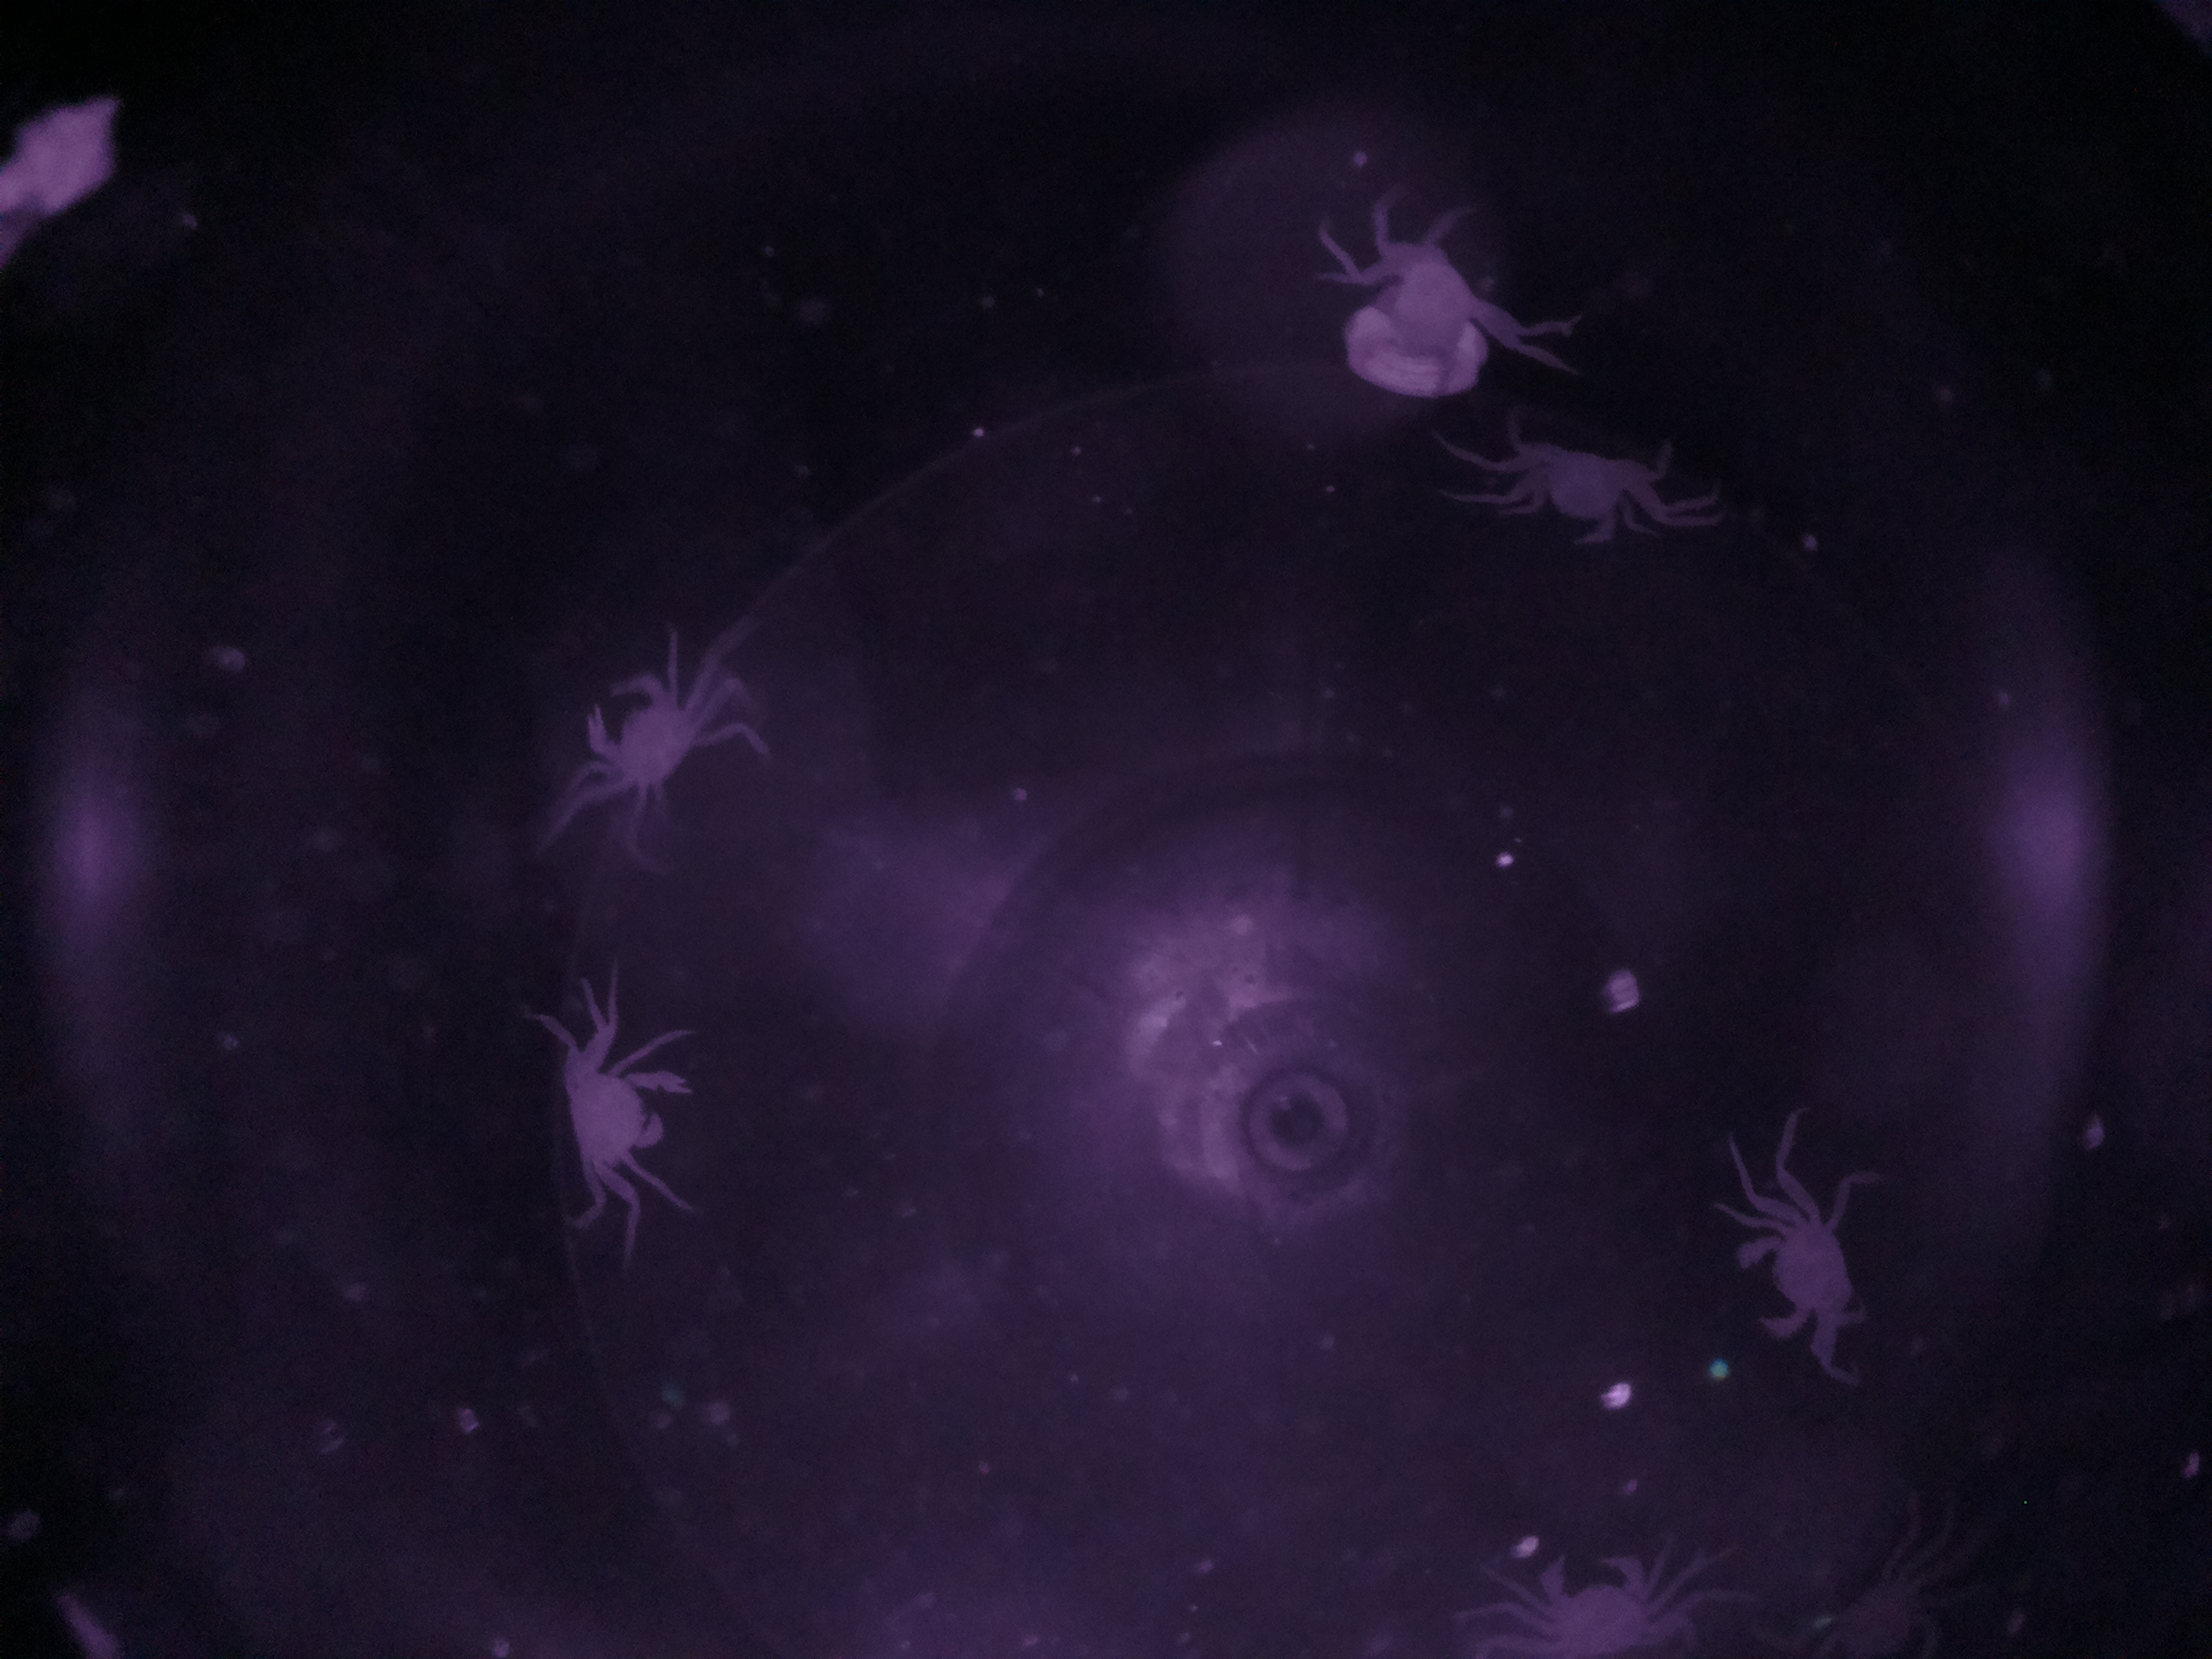Crab: (540, 1009, 685, 1209), (1728, 1176, 1879, 1361), (570, 645, 719, 809)
